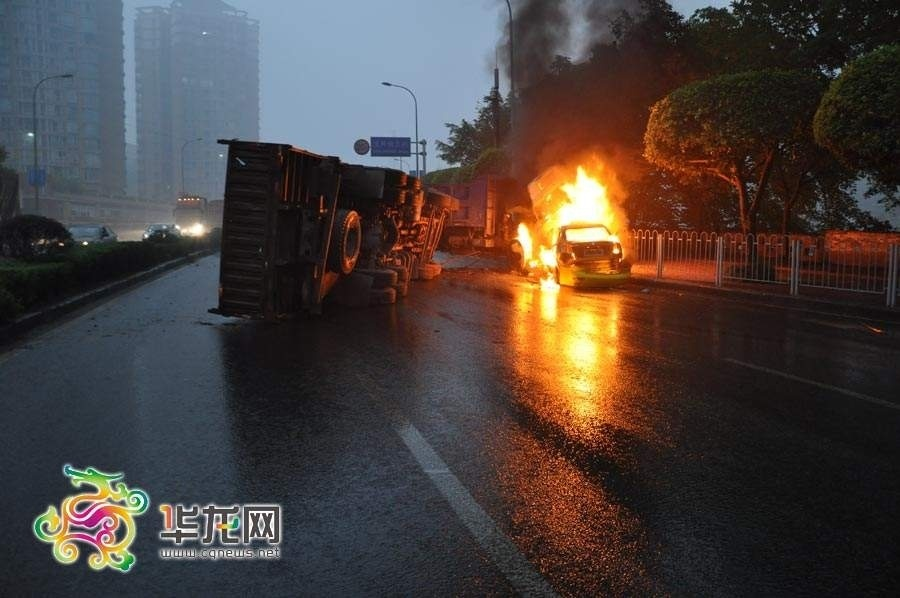fire: (518, 161, 626, 284)
